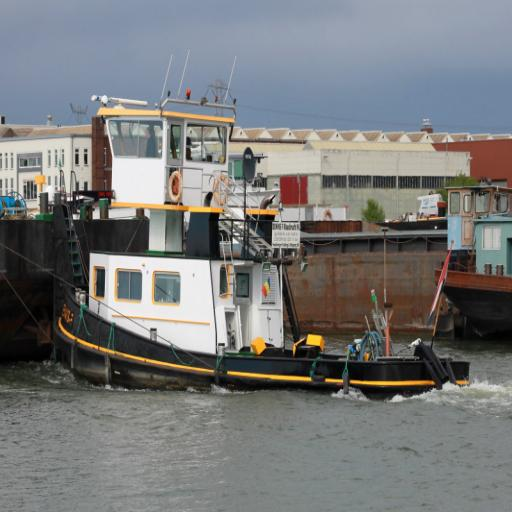tugboat: (50, 89, 474, 407)
